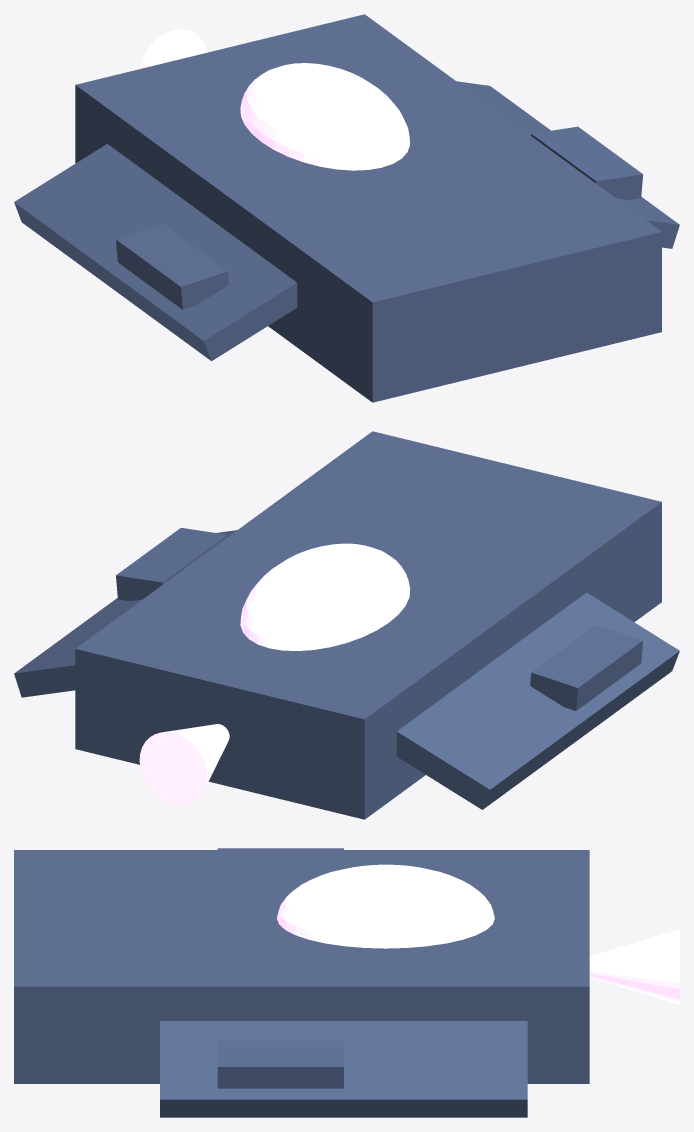
The model's file is valkyrie_t1.glb.
3 renders of one model, top to bottom at view 1: azimuth 30°, elevation 25°; view 2: azimuth 150°, elevation 25°; view 3: azimuth 270°, elevation 25°, orthographic. The views are drawn at different scales.
Visible parts, largest first — view 1: Cube, Cube.002, Sphere, Cube.005, Cube.004, Cube.001, Cone; view 2: Cube, Cube.002, Sphere, Cube.005, Cone, Cube.001, Cube.004; view 3: Cube, Cube.001, Sphere, Cube.004, Cone.
Part boxes in pixels (x1,y1,x2,y2): Cube: (75, 14, 661, 402); Cube.002: (14, 144, 297, 361); Sphere: (240, 63, 409, 170); Cube.005: (116, 223, 228, 309); Cube.004: (531, 126, 642, 199); Cube.001: (457, 81, 679, 248); Cone: (140, 29, 207, 68); Cube: (75, 431, 661, 819); Cube.002: (396, 592, 679, 809); Sphere: (240, 543, 409, 650); Cube.005: (530, 625, 642, 710); Cone: (139, 724, 229, 804); Cube.001: (14, 530, 236, 697); Cube.004: (116, 527, 227, 601); Cube: (14, 850, 589, 1083); Cube.001: (160, 1021, 527, 1117); Sphere: (277, 864, 494, 948); Cube.004: (217, 1040, 343, 1088); Cone: (589, 929, 679, 1004).
Bounding box in the file's own units: 2.53 × 0.745 × 3.17.
